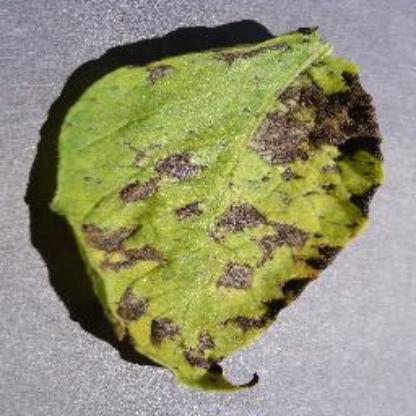Early-Blight: (39, 23, 386, 393)
